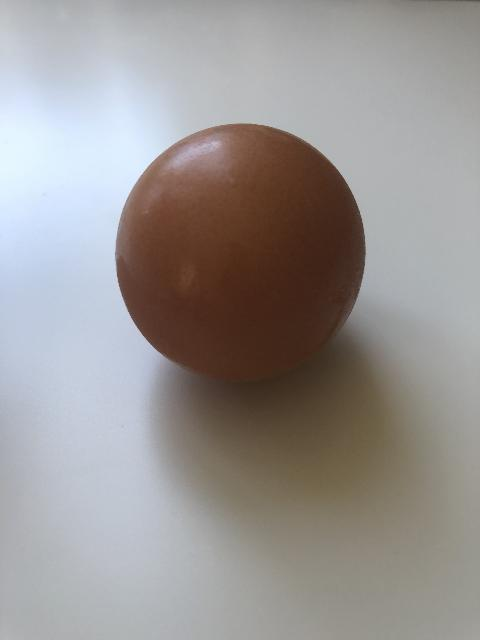Sano: (114, 121, 367, 384)
